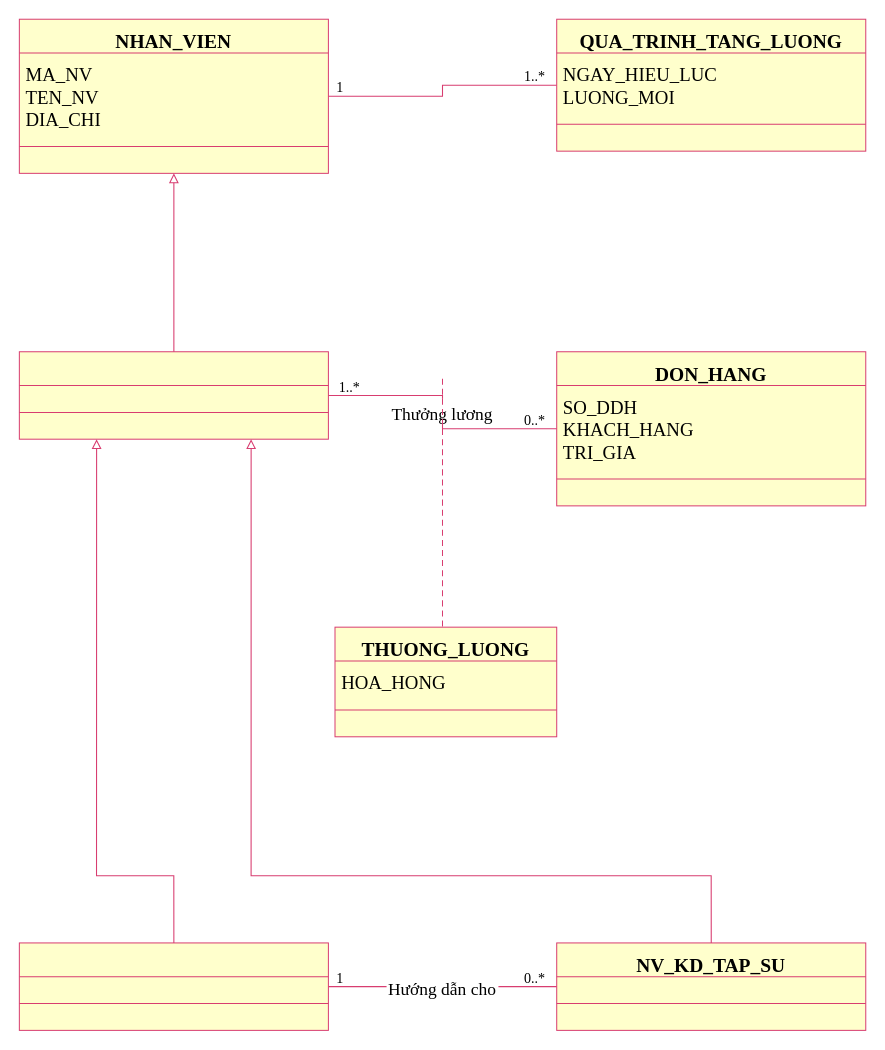
Image size: 885x1050. Some labels were removed from this diagram. The shapes that lost their labels are listed below. From the top down, each one's box as (x1, y1, x2, y2) in pixels, then its label:
(18, 351, 328, 439): NV_KINH_DOANH
(18, 942, 328, 1030): NV_KD_LAU_NAM
